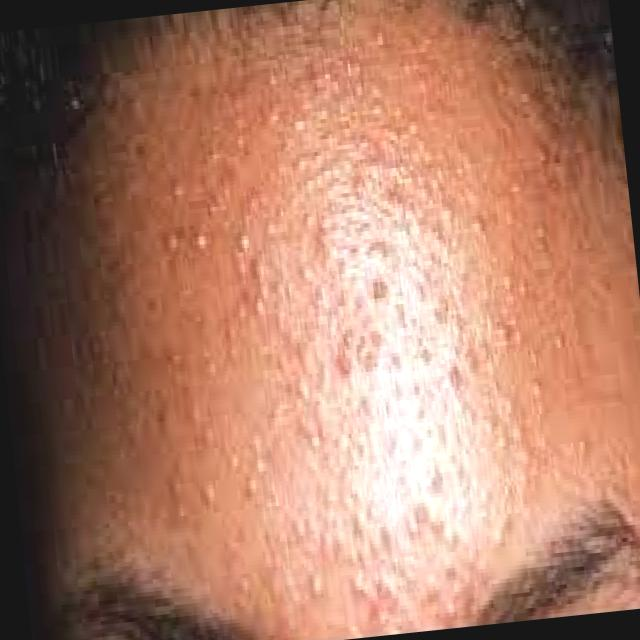fungal: (64, 35, 612, 618)
